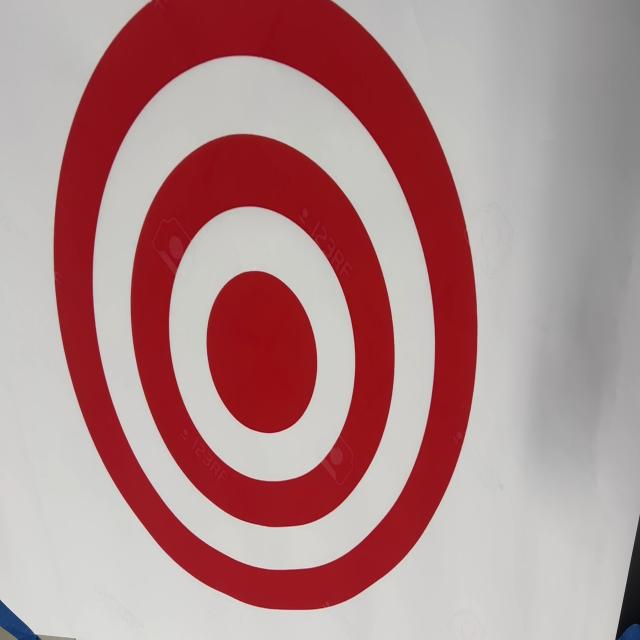target_red: (49, 2, 485, 640)
